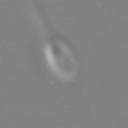normal: (25, 1, 56, 40)
